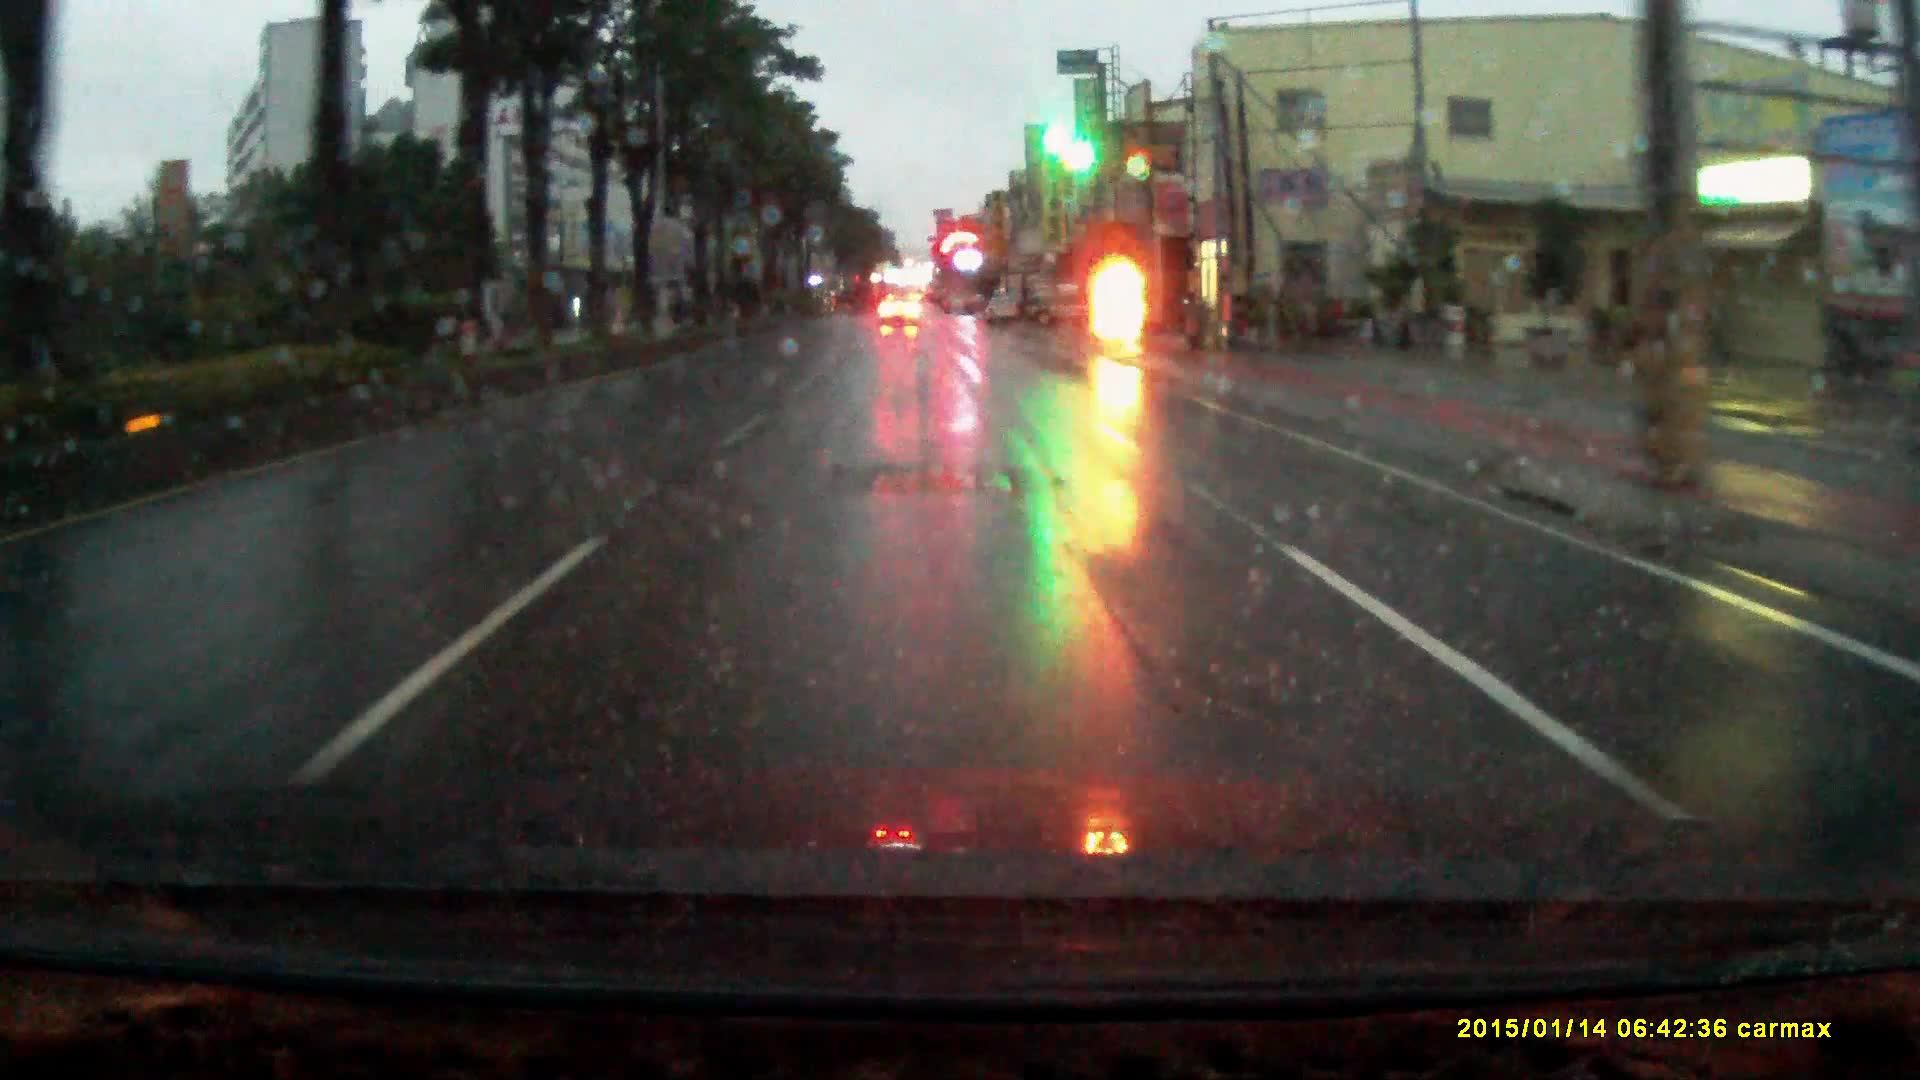vehicle: (1027, 276, 1109, 324), (880, 291, 926, 328)
